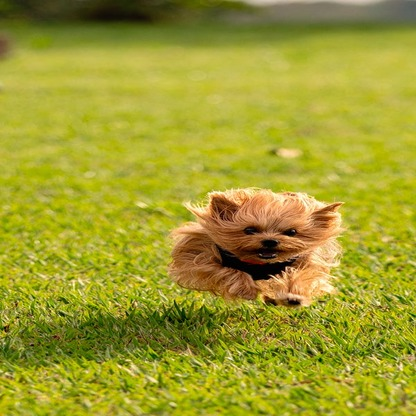yorkshire: (168, 186, 344, 310)
